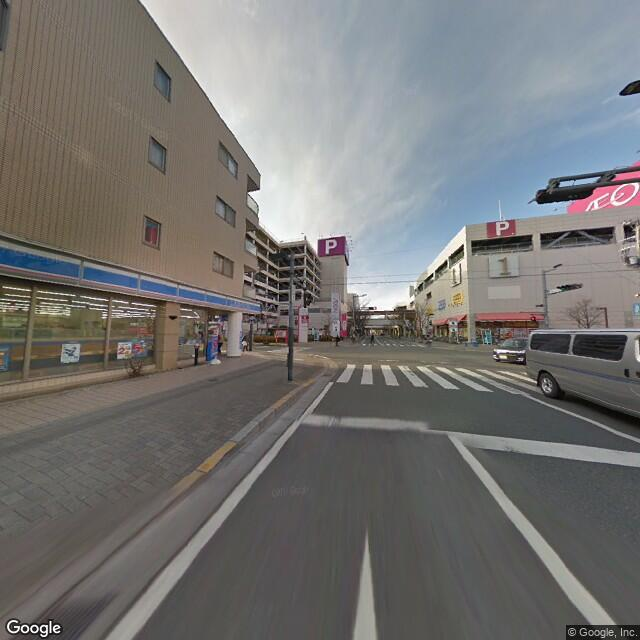lawson: (2, 240, 263, 319)
